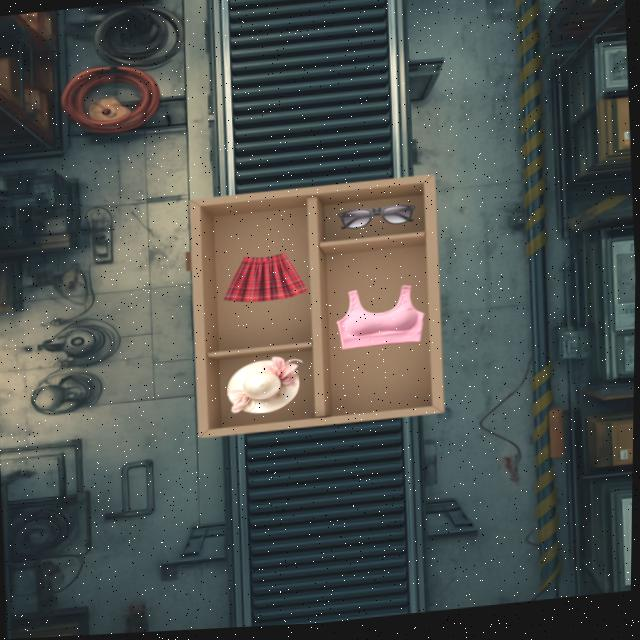hat: (228, 357, 302, 413)
skirt: (224, 253, 307, 302)
sunglasses: (338, 204, 415, 229)
top: (337, 286, 424, 349)
